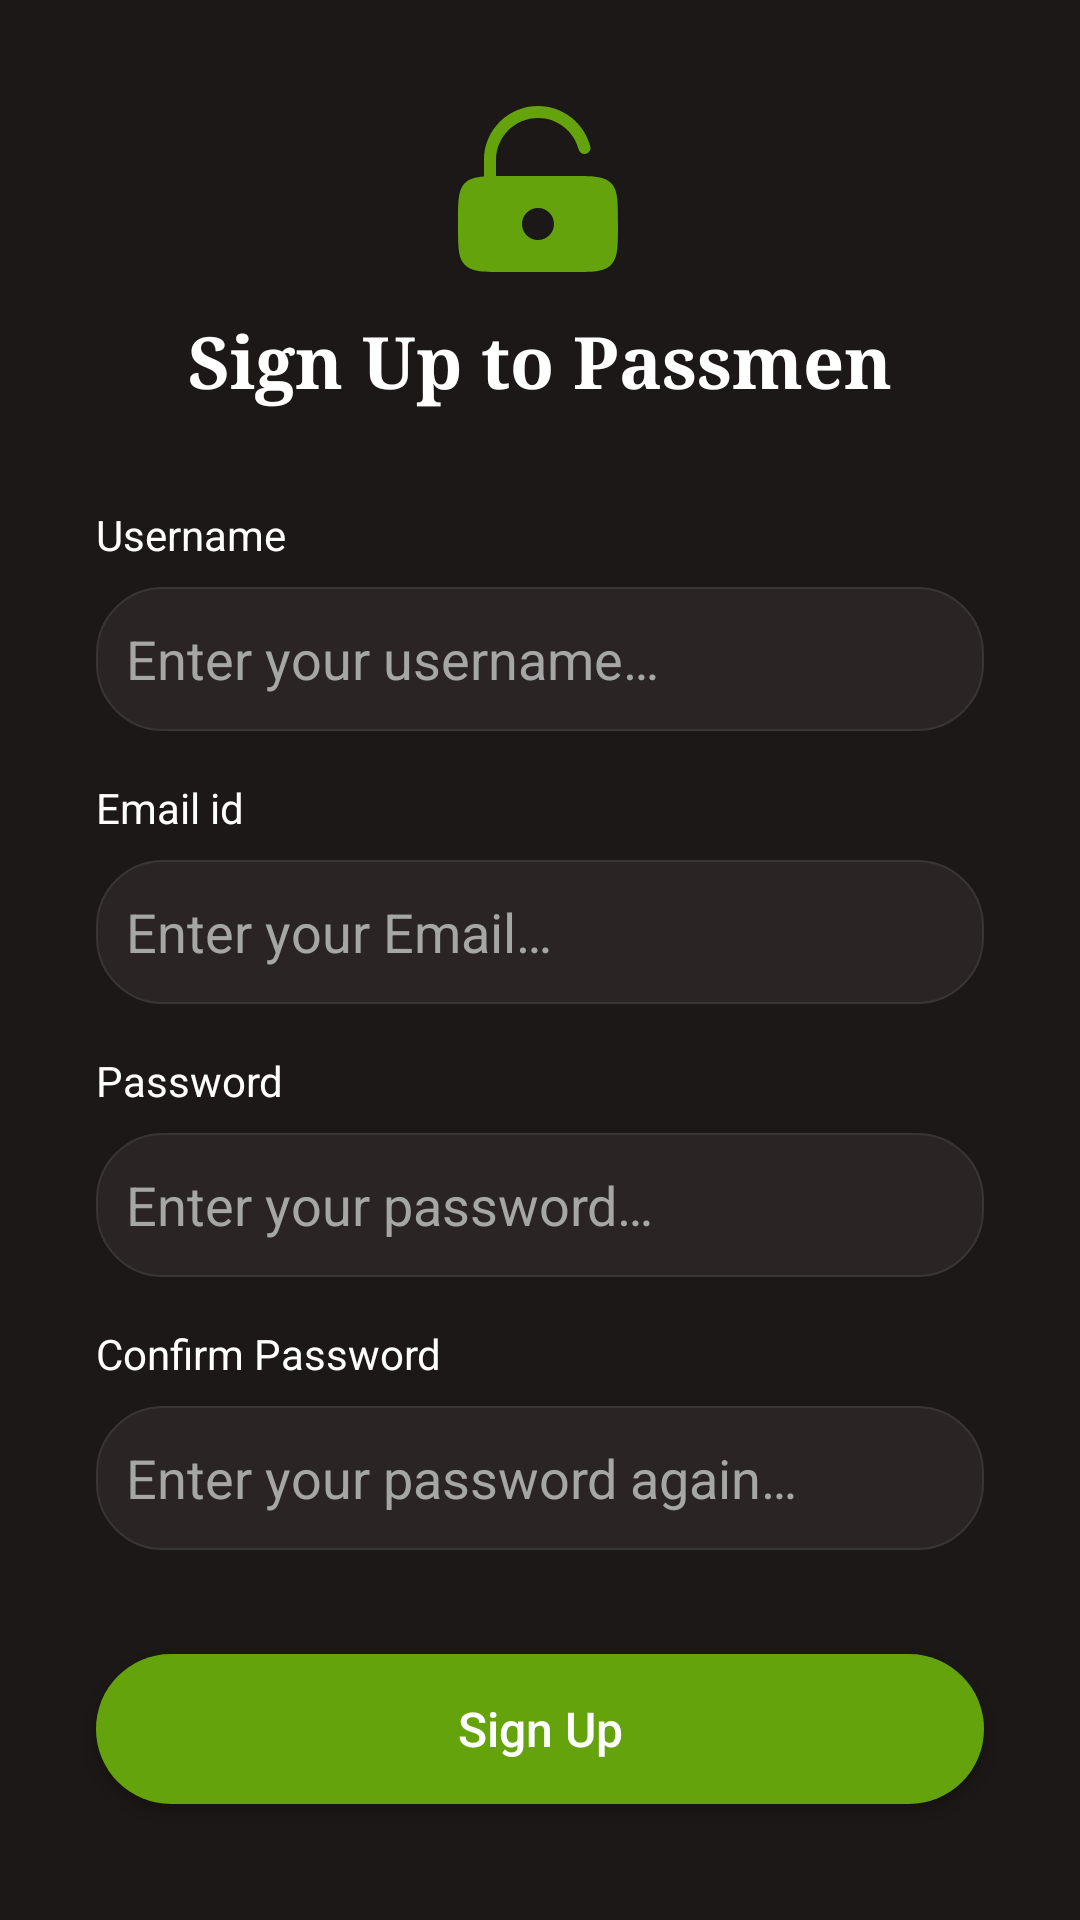

Icons on this 1080 x 1920 Android screen, each with its box as (x1, y1, x2, y2):
lock: (458, 106, 618, 272)
